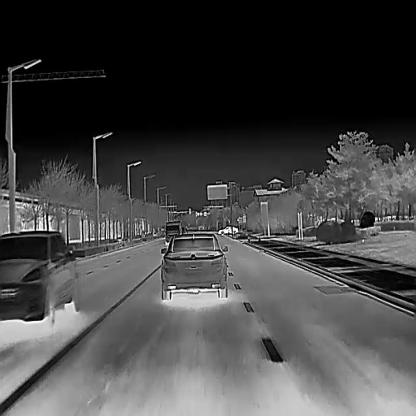car: (0, 228, 81, 324), (159, 231, 228, 300), (218, 223, 238, 235)
truck: (164, 219, 181, 243)
